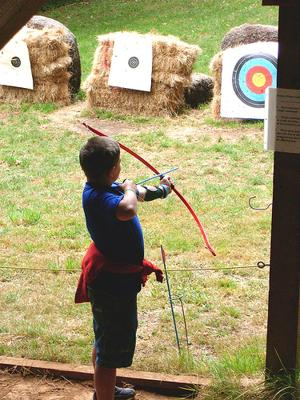person: (74, 134, 175, 400)
